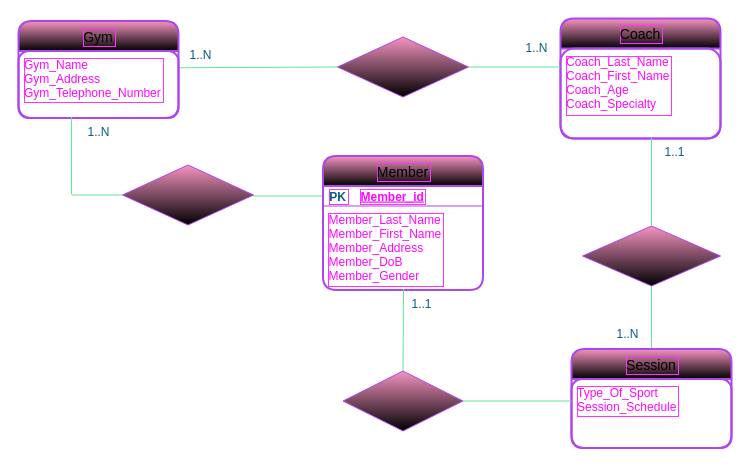
The diagram is 749 pixels wide and 466 high, and some of its shapes have lost their labels. Here are the shapes that lost their labels. From the top down, the centre of each, then its label:
the point at 402,66: Update
the point at 188,194: Register
the point at 651,255: Led
the point at 402,400: Accommodate
